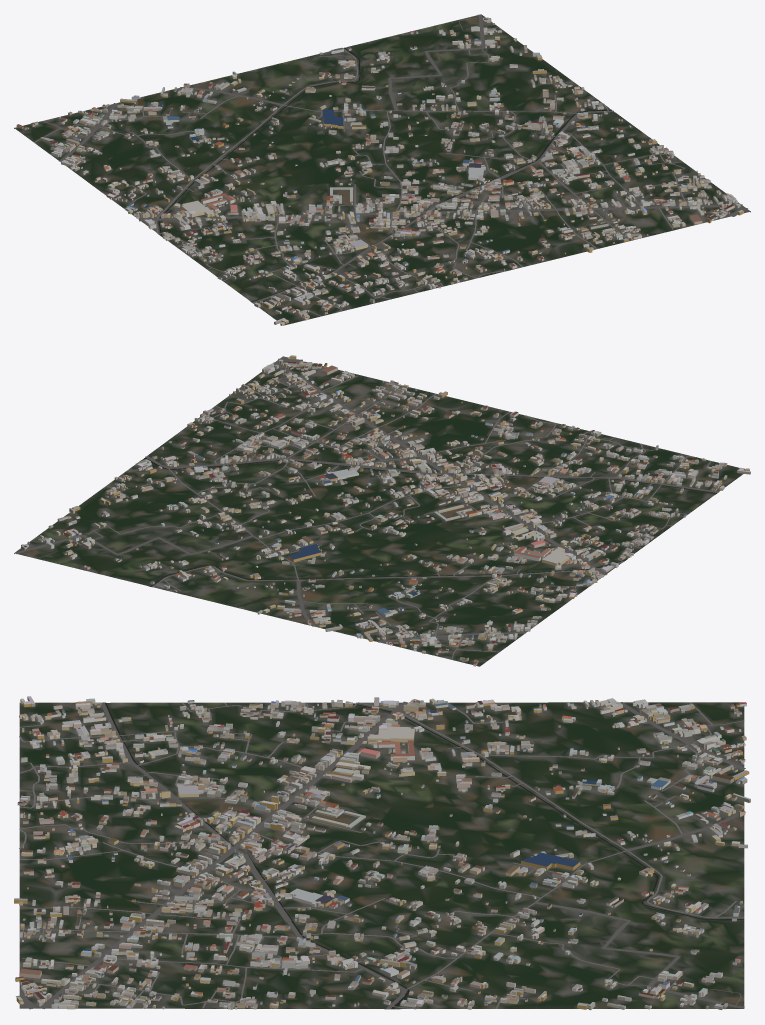
3 renders of one model, top to bottom at view 1: azimuth 30°, elevation 25°; view 2: azimuth 150°, elevation 25°; view 3: azimuth 270°, elevation 25°, orthographic. The views are drawn at different scales.
Visible parts, largest first — view 1: ground, buildings, roads, water; view 2: ground, buildings, roads, water; view 3: ground, buildings, roads, water.
Boxes of the visible parts, x1,y1,x2,y2 form: ground: (14, 14, 750, 325); buildings: (16, 17, 743, 325); roads: (34, 14, 747, 316); water: (158, 47, 611, 302); ground: (14, 356, 745, 666); buildings: (21, 355, 750, 666); roads: (15, 358, 718, 659); water: (144, 457, 716, 586); ground: (19, 702, 744, 1009); buildings: (14, 696, 750, 1010); roads: (16, 701, 745, 1009); water: (105, 702, 744, 1009).
Size of the model in its own units: 1422 by 20.4 by 1424.
